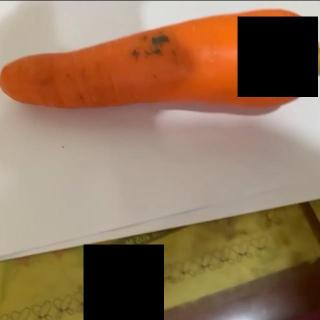carrot: (0, 8, 320, 110)
